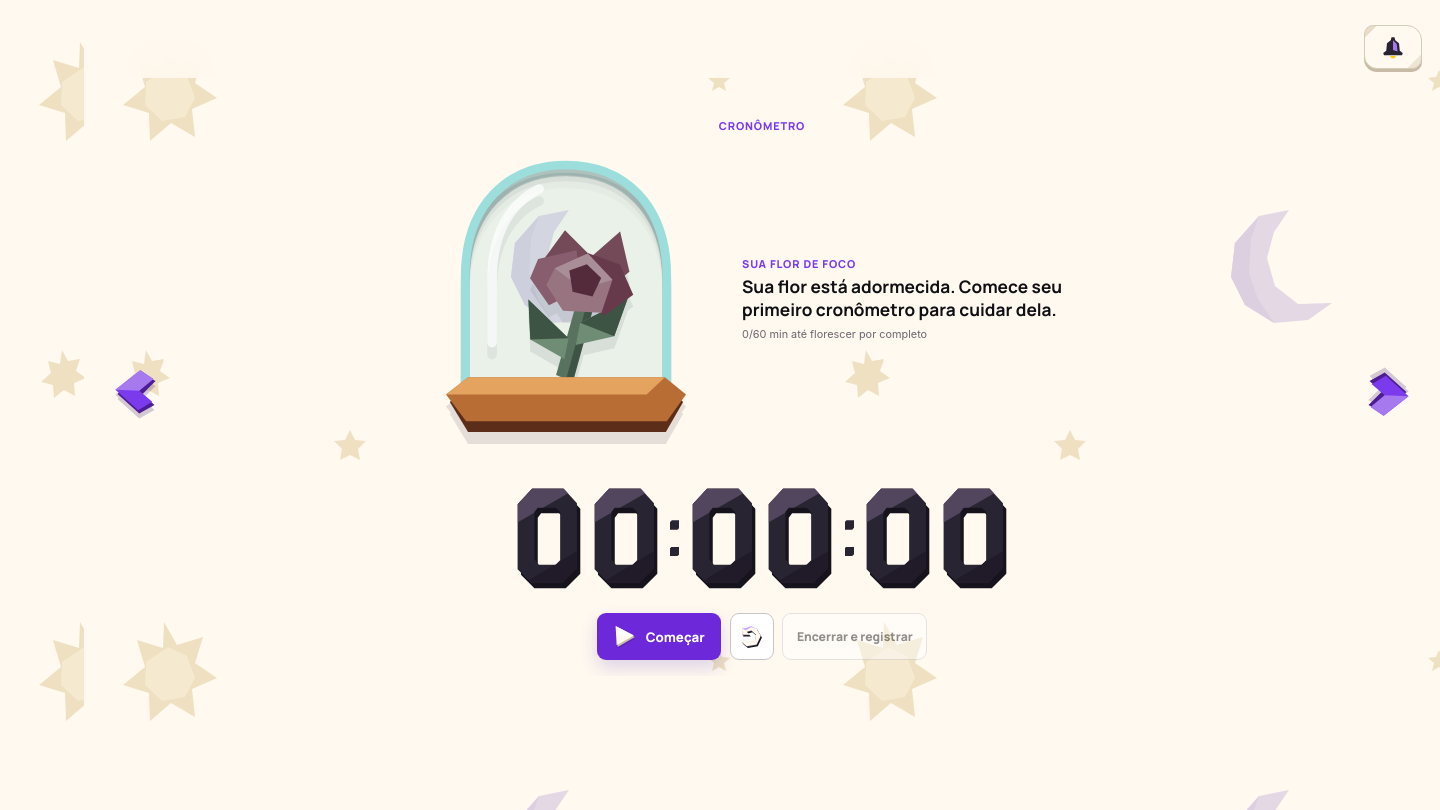
Test: pausa pomodoro após suspensão sem criar ciclos
Click the button named "Próximo modo". click: (1388, 393)
box: [1360,365,1416,421]
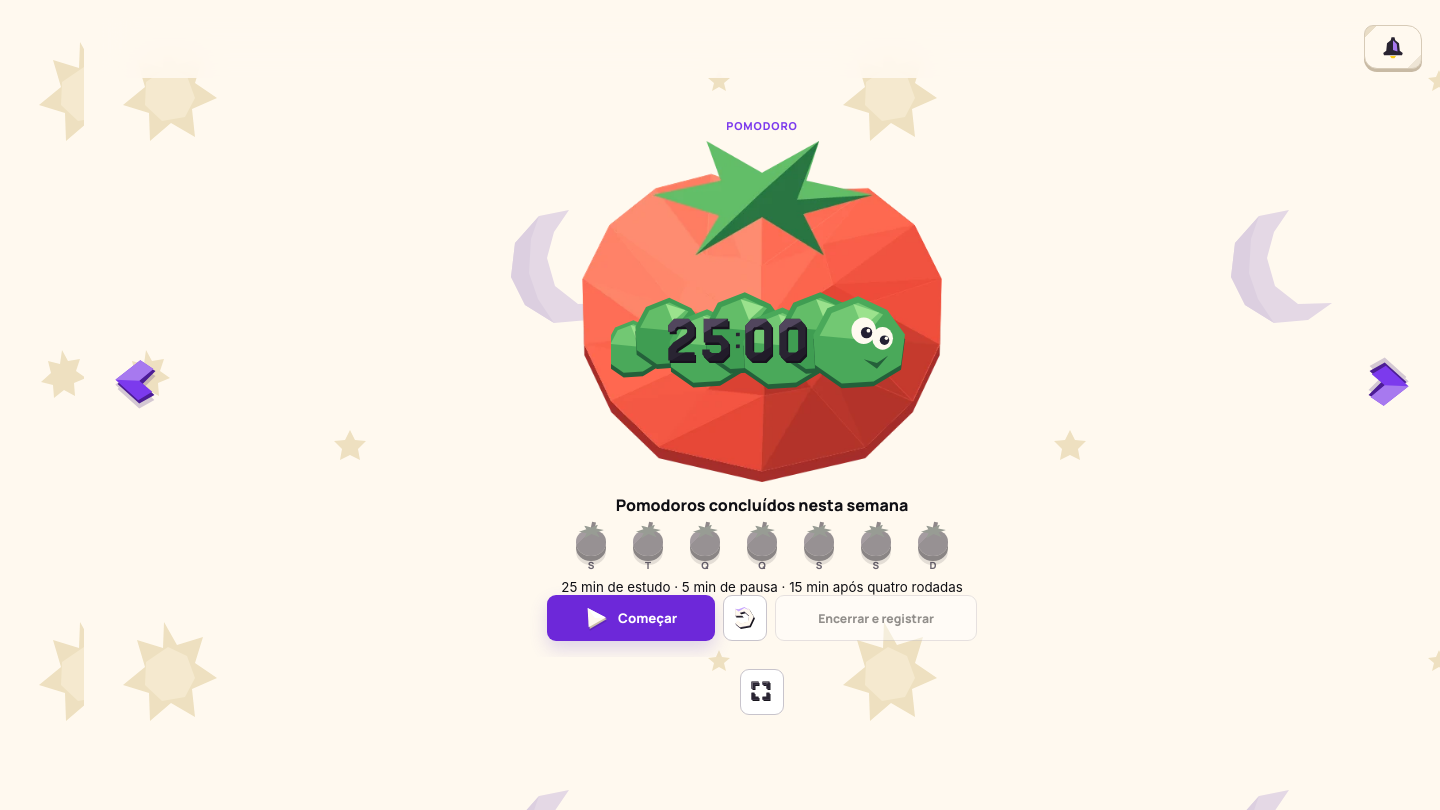
Click the button "Começar". click: (631, 618)
box: [547,595,715,641]
Wait 10250 ms
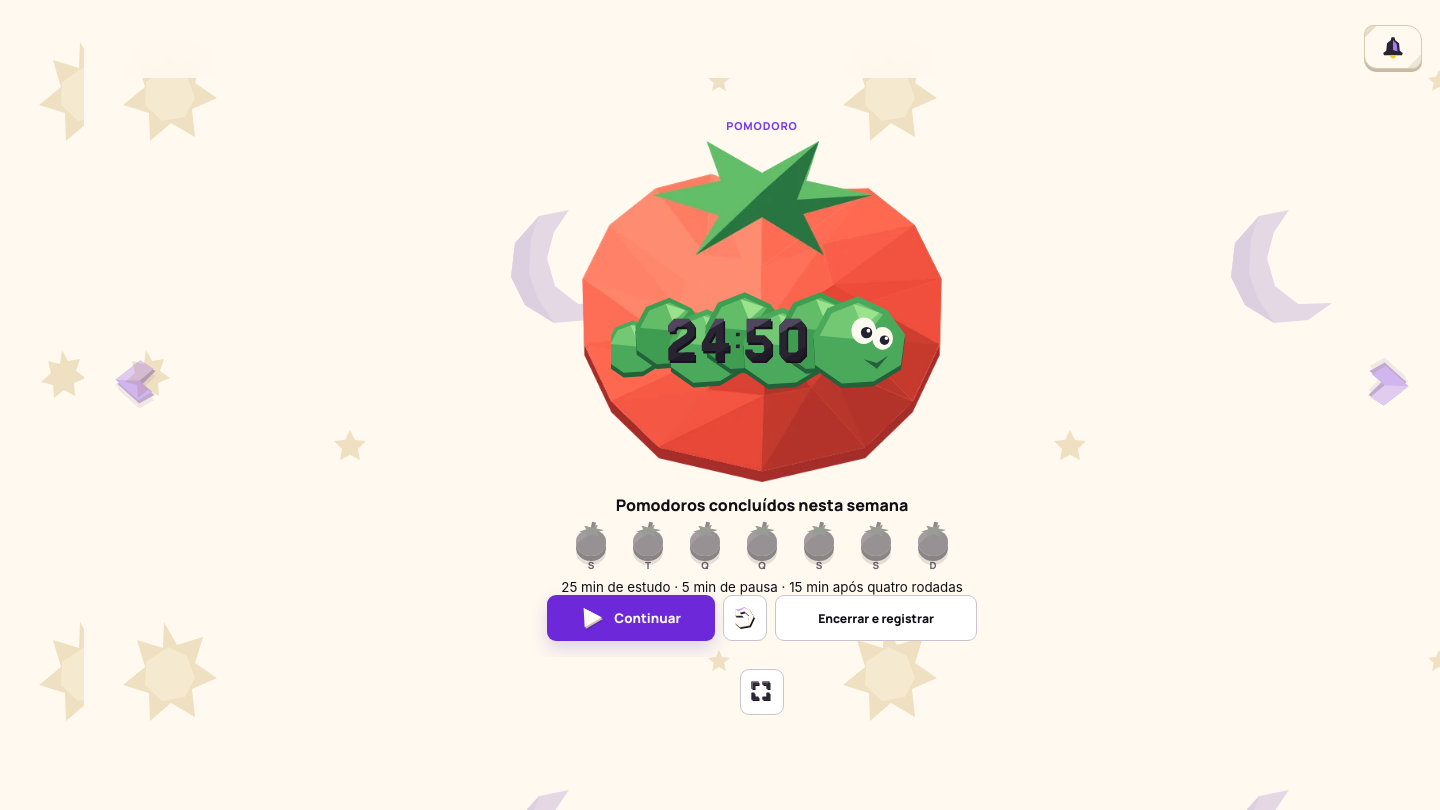
Expected: the button "Continuar" is shown
Click the button "Continuar". click: (631, 618)
box: [547,595,715,641]
Wait 1000 ms
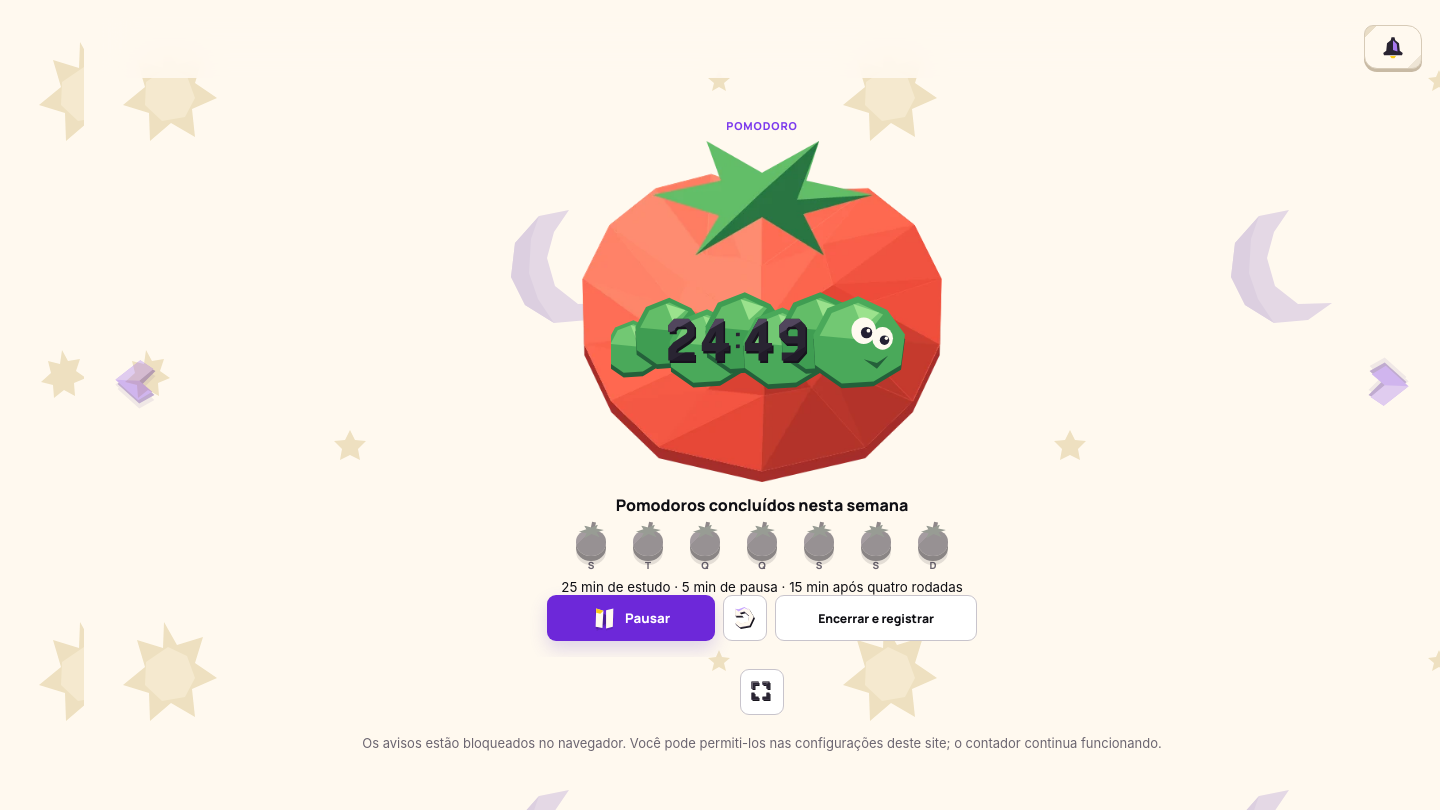
Expected: the button "Pausar" is shown, [547,595,715,641]
